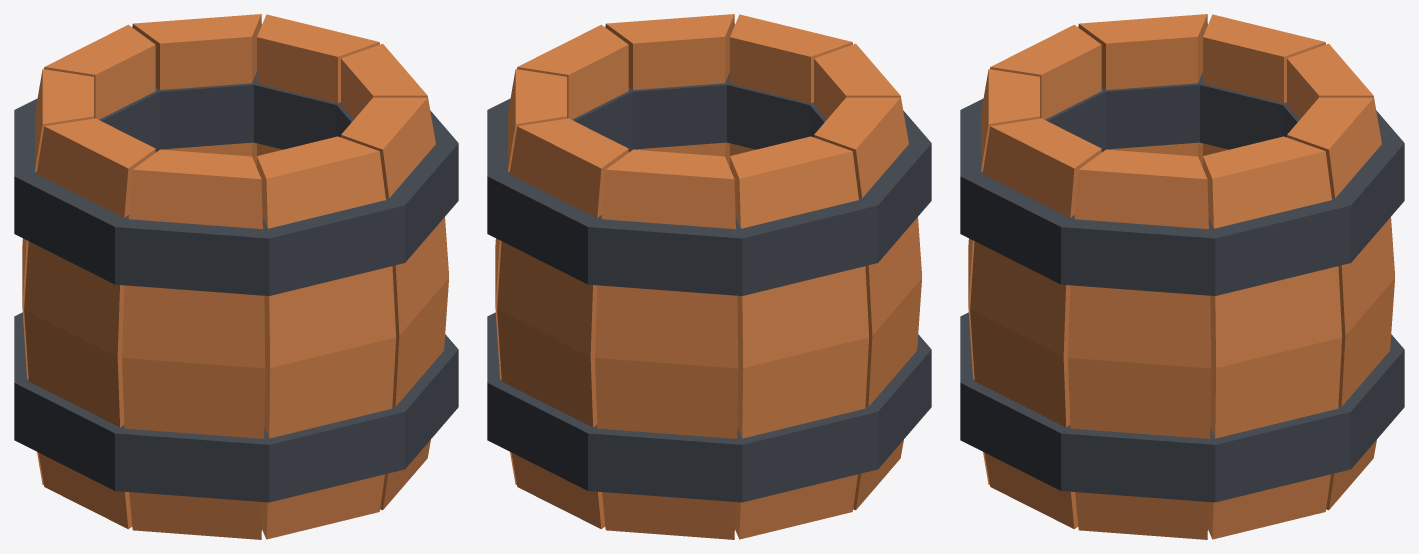
Rendered from Barrel.fbx.
The picture shows the model from 3 angles, left to right: view 1: azimuth 30°, elevation 25°; view 2: azimuth 150°, elevation 25°; view 3: azimuth 270°, elevation 25°; orthographic projection.
Visible parts, largest first — view 1: Barrel; view 2: Barrel; view 3: Barrel.
Boxes of the visible parts, x1,y1,x2,y2 form: Barrel: (14,14,458,539); Barrel: (487,14,931,539); Barrel: (960,14,1404,539).
Size of the model in its own units: 252 by 223 by 248.
